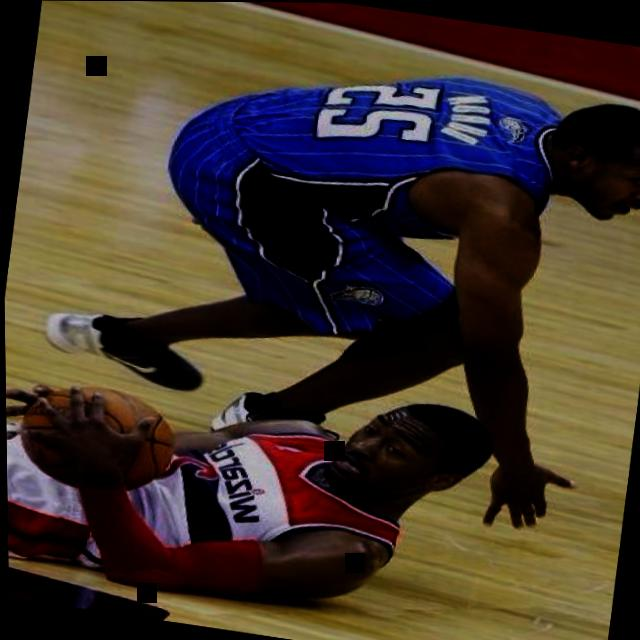Fall-Detected: (4, 328, 541, 640)
